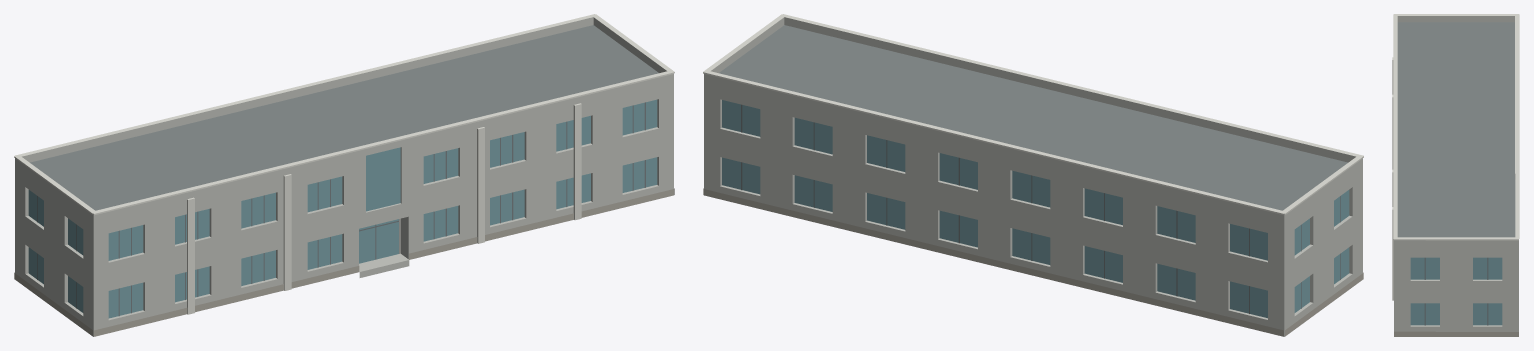
3 views of the same model, side by side, from view 1: azimuth 30°, elevation 25°; view 2: azimuth 150°, elevation 25°; view 3: azimuth 270°, elevation 25° (orthographic). The views are drawn at different scales.
Parts seen in each view (by area): view 1: research__wall, research__roof, research__glass, research__parapet, research__trim, research__base, research__frame, research__entranceThreshold_0; view 2: research__wall, research__roof, research__glass, research__parapet, research__trim, research__base, research__frame; view 3: research__roof, research__wall, research__trim, research__glass, research__parapet, research__base, research__frame.
Boxes of the visible parts, bbox=[...] form: research__wall: bbox=[15, 80, 673, 336]; research__roof: bbox=[30, 25, 658, 336]; research__glass: bbox=[28, 99, 657, 318]; research__parapet: bbox=[15, 17, 673, 221]; research__trim: bbox=[14, 14, 674, 314]; research__base: bbox=[14, 188, 674, 336]; research__frame: bbox=[37, 102, 645, 316]; research__entranceThreshold_0: bbox=[359, 253, 409, 277]; research__wall: bbox=[704, 80, 1362, 336]; research__roof: bbox=[719, 25, 1347, 336]; research__glass: bbox=[722, 100, 1349, 318]; research__parapet: bbox=[704, 17, 1362, 221]; research__trim: bbox=[703, 14, 1363, 215]; research__base: bbox=[703, 188, 1363, 336]; research__frame: bbox=[741, 104, 1340, 313]; research__roof: bbox=[1397, 22, 1515, 237]; research__wall: bbox=[1394, 245, 1518, 331]; research__trim: bbox=[1392, 14, 1519, 300]; research__glass: bbox=[1410, 257, 1502, 325]; research__parapet: bbox=[1394, 16, 1518, 245]; research__base: bbox=[1394, 331, 1518, 336]; research__frame: bbox=[1424, 257, 1488, 325].
Bounding box in the file's own units: 42.28 × 8.95 × 10.11.
